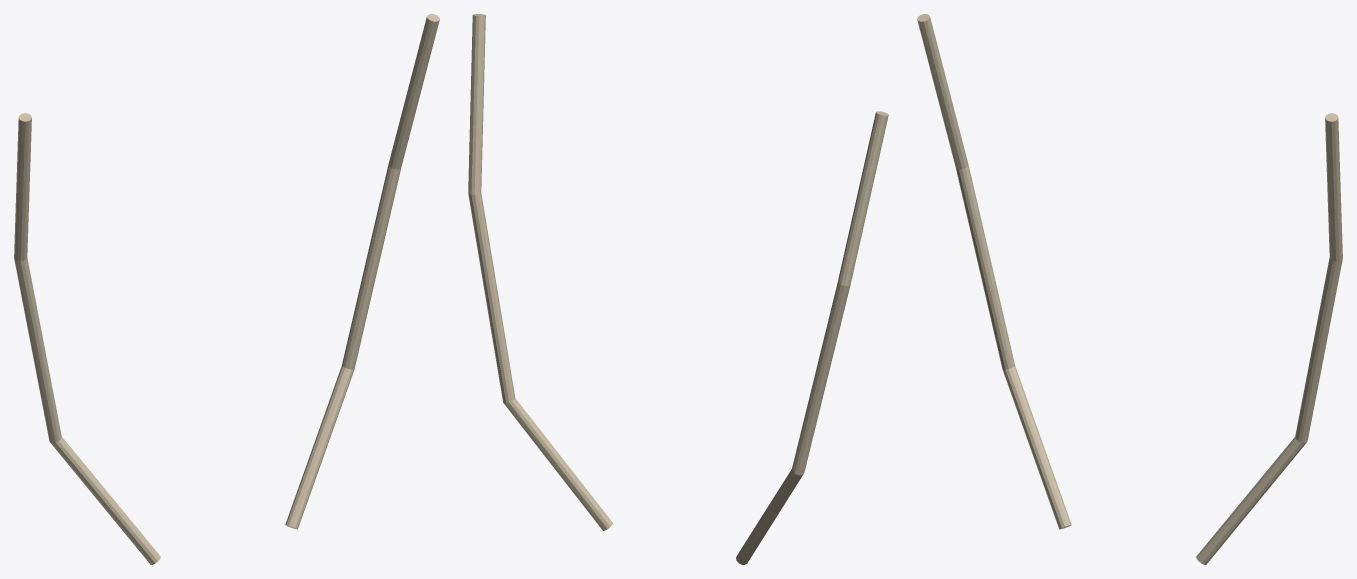
The model's file is ureters.glb.
3 renders of one model, left to right at view 1: azimuth 30°, elevation 25°; view 2: azimuth 150°, elevation 25°; view 3: azimuth 330°, elevation 25°, orthographic.
Visible parts, largest first — view 1: ureters; view 2: ureters; view 3: ureters.
Boxes of the visible parts, x1,y1,x2,y2 form: ureters: (14,14,439,564); ureters: (468,14,888,564); ureters: (917,14,1342,564).
Size of the model in its own units: 0.1234 by 0.1364 by 0.0173.
